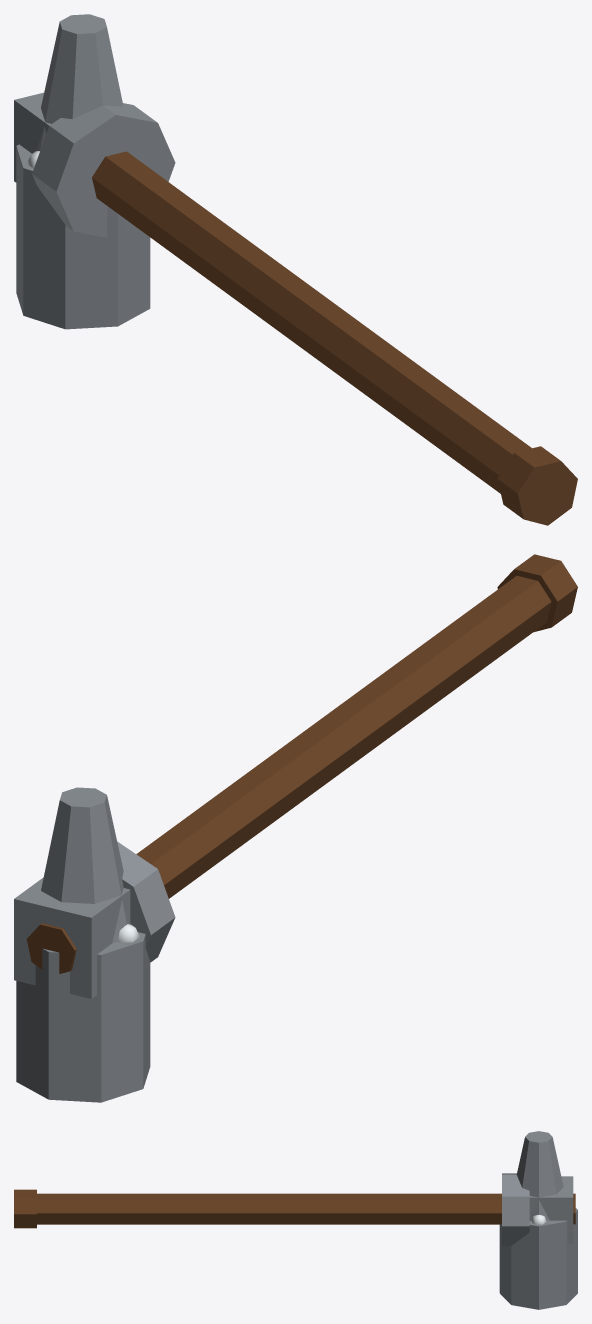
The model's file is Tool_Hammer_Iron.fbx.
3 views of the same model, one above another, from view 1: azimuth 30°, elevation 25°; view 2: azimuth 150°, elevation 25°; view 3: azimuth 270°, elevation 25° (orthographic). The views are drawn at different scales.
Visible parts, largest first — view 1: Tool_Hammer_Iron; view 2: Tool_Hammer_Iron; view 3: Tool_Hammer_Iron.
Boxes of the visible parts, bbox=[...] form: Tool_Hammer_Iron: bbox=[14, 14, 577, 525]; Tool_Hammer_Iron: bbox=[14, 554, 577, 1102]; Tool_Hammer_Iron: bbox=[14, 1131, 577, 1309].
Bounding box in the file's own units: 3.4 × 7.5 × 24.5.
